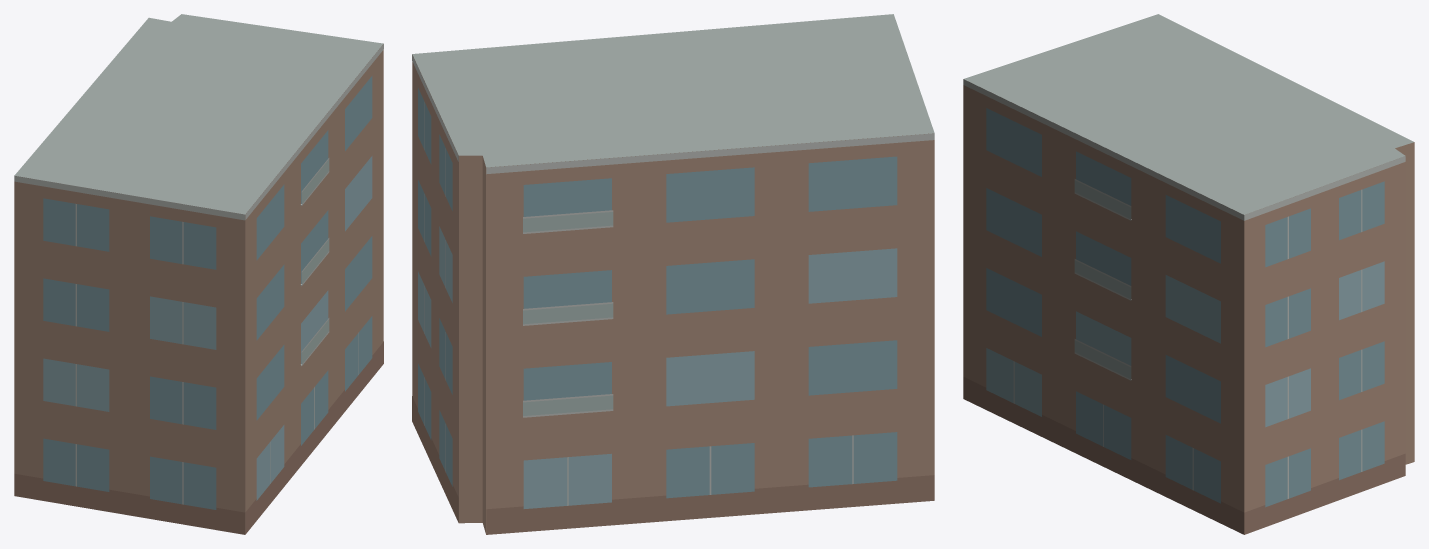
File: survey-upis-32748296.glb
3 views of the same model, side by side, from view 1: azimuth 30°, elevation 25°; view 2: azimuth 150°, elevation 25°; view 3: azimuth 270°, elevation 25° (orthographic). The views are drawn at different scales.
Visible parts, largest first — view 1: survey-upis-32748296.tmp; view 2: survey-upis-32748296.tmp; view 3: survey-upis-32748296.tmp.
Boxes of the visible parts, left/top/right/bottom form: survey-upis-32748296.tmp: left=14, top=14, right=383, bottom=534; survey-upis-32748296.tmp: left=412, top=14, right=934, bottom=534; survey-upis-32748296.tmp: left=963, top=14, right=1414, bottom=534.
Bounding box in the file's own units: 17.93 × 13.3 × 17.01.
